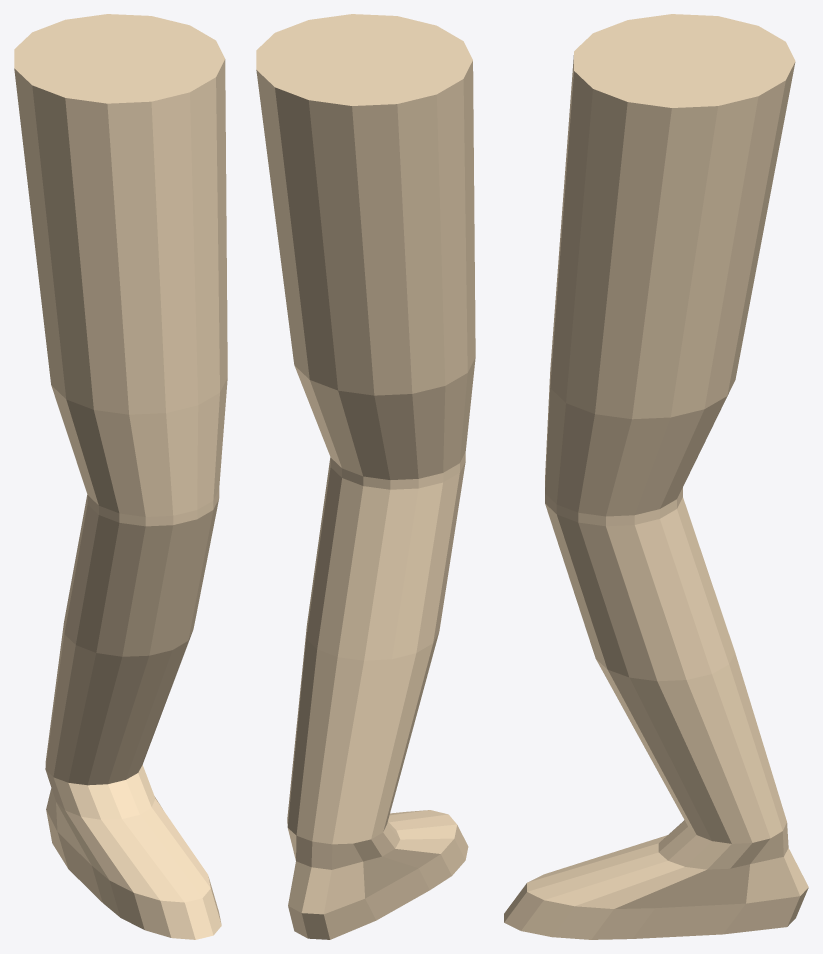
File: dodofoot.glb
3 renders of one model, left to right at view 1: azimuth 30°, elevation 25°; view 2: azimuth 150°, elevation 25°; view 3: azimuth 270°, elevation 25°, orthographic. The views are drawn at different scales.
Bounding box in the file's own units: 2.99 × 12.68 × 4.09.
